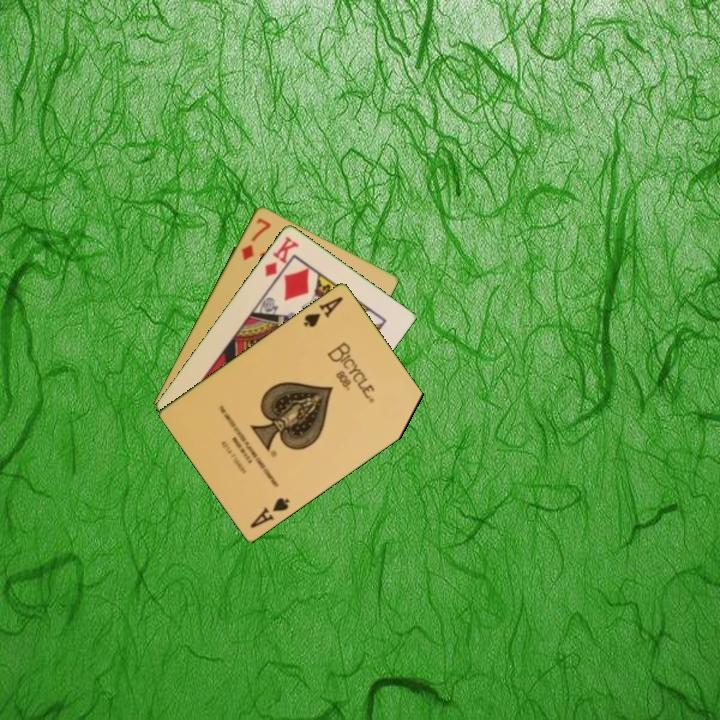7d: (238, 214, 274, 263)
As: (300, 292, 346, 330), (247, 493, 293, 531)
Kd: (261, 232, 302, 279)
